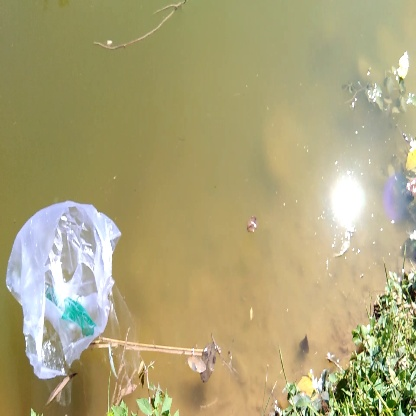plastic-bag: (8, 201, 123, 373)
